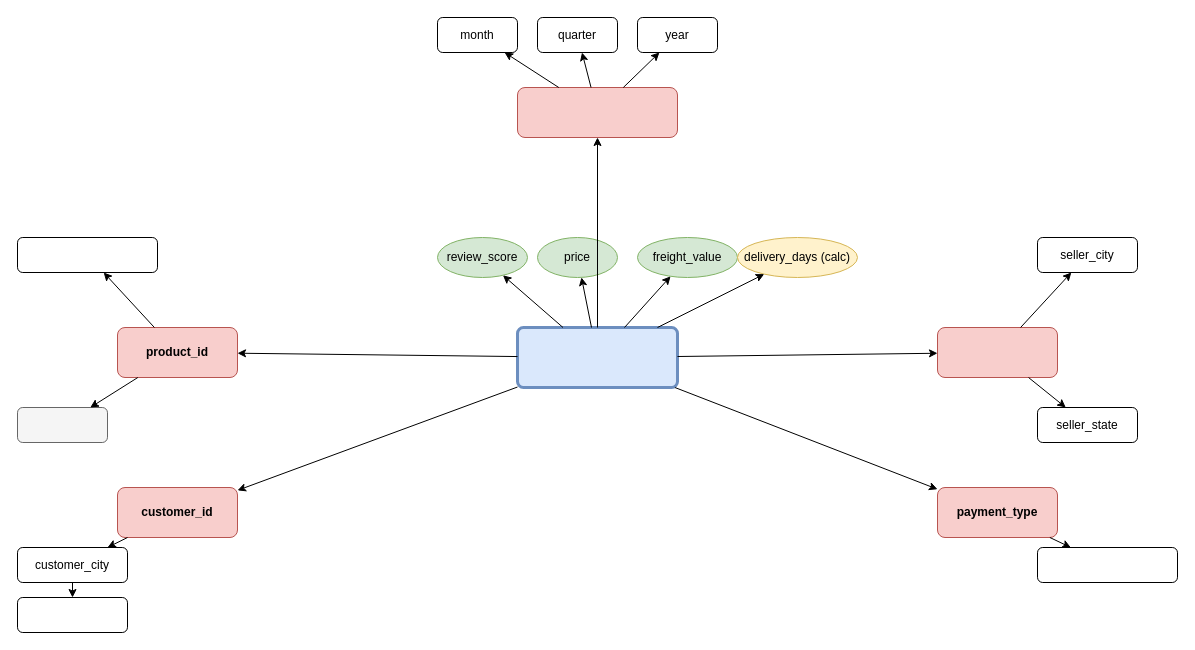
This 1195x650 diagram has some shape labels left out. The centre of each missing label's shape, as x and y in pixels:
category_name_EN: pixel 87 254
customer_state: pixel 72 614
order_purchase_date: pixel 597 112
payment_installments: pixel 1107 564
seller_id: pixel 997 352
VENDITA: pixel 597 357
weight_g: pixel 62 424
